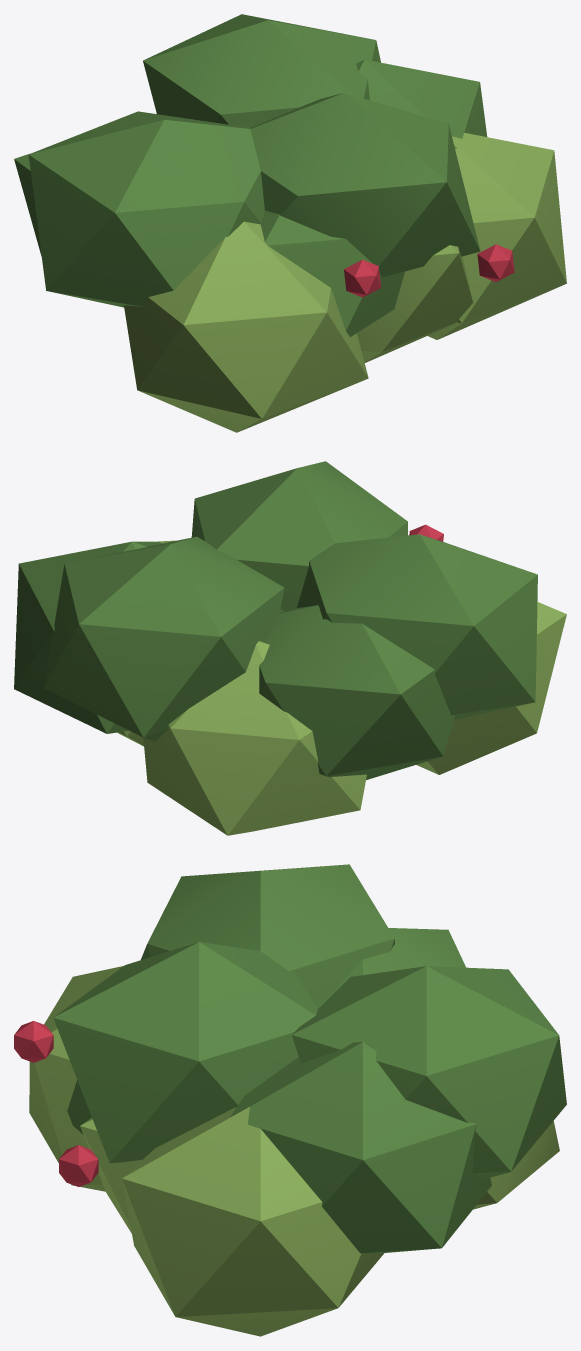
File: bush_berry.glb
3 renders of one model, top to bottom at view 1: azimuth 30°, elevation 25°; view 2: azimuth 150°, elevation 25°; view 3: azimuth 270°, elevation 25°, orthographic. The views are drawn at different scales.
Parts seen in each view (by area): view 1: bush_berry; view 2: bush_berry; view 3: bush_berry.
Part boxes in pixels (bbox=[...]): bush_berry: bbox=[14, 14, 566, 432]; bush_berry: bbox=[14, 461, 566, 835]; bush_berry: bbox=[14, 864, 566, 1336].
Size of the model in its own units: 2.01 by 1.12 by 1.71.
